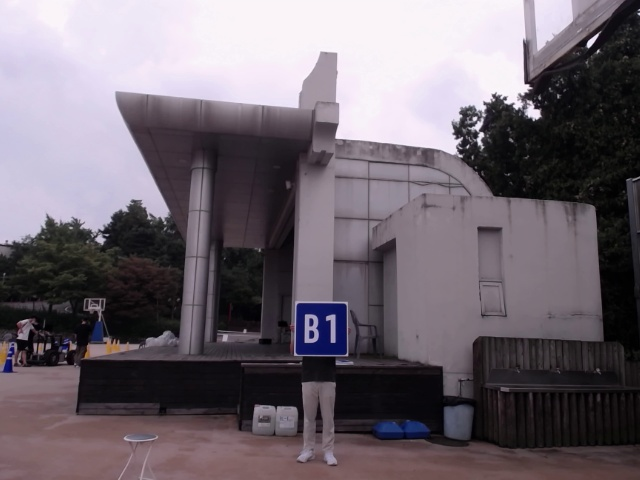delivery_b1: (295, 301, 348, 356)
